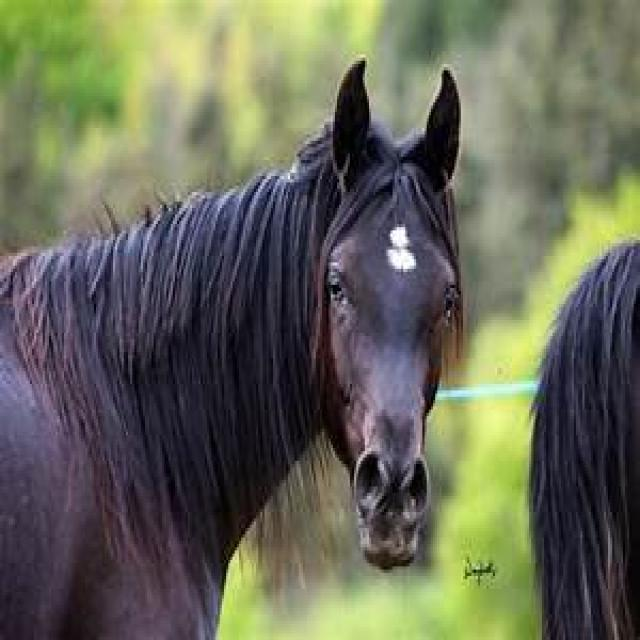animal: (0, 54, 463, 637), (527, 234, 638, 636)
